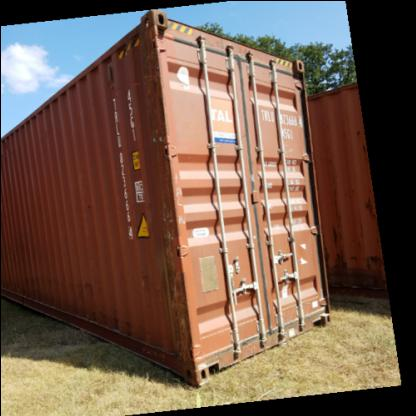Damage: (155, 194, 196, 366), (328, 181, 350, 290), (84, 310, 136, 340), (76, 270, 98, 296), (80, 192, 94, 214)
